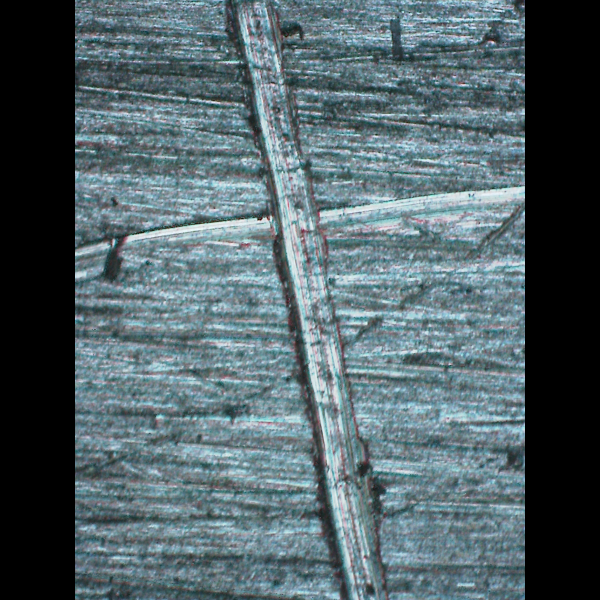d: (215, 0, 395, 595), (75, 178, 523, 264)
